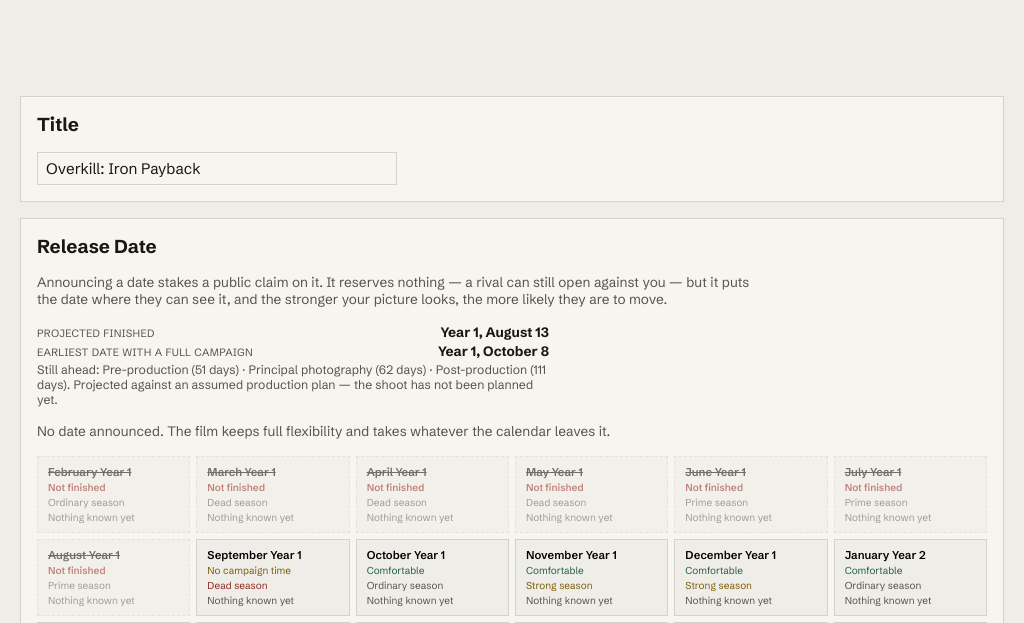
ProjectOverview - the release-date card surfaces what should decide the date › warns in words once a date is claimed, naming the worst problem with it
This screenshot has width=1024, height=623.
Claim the first month offered - the one the film has no chance of making.
Click the button with class "release-month-cell" that starts with "February Year 1" at [114, 494], box [37,456,190,533]
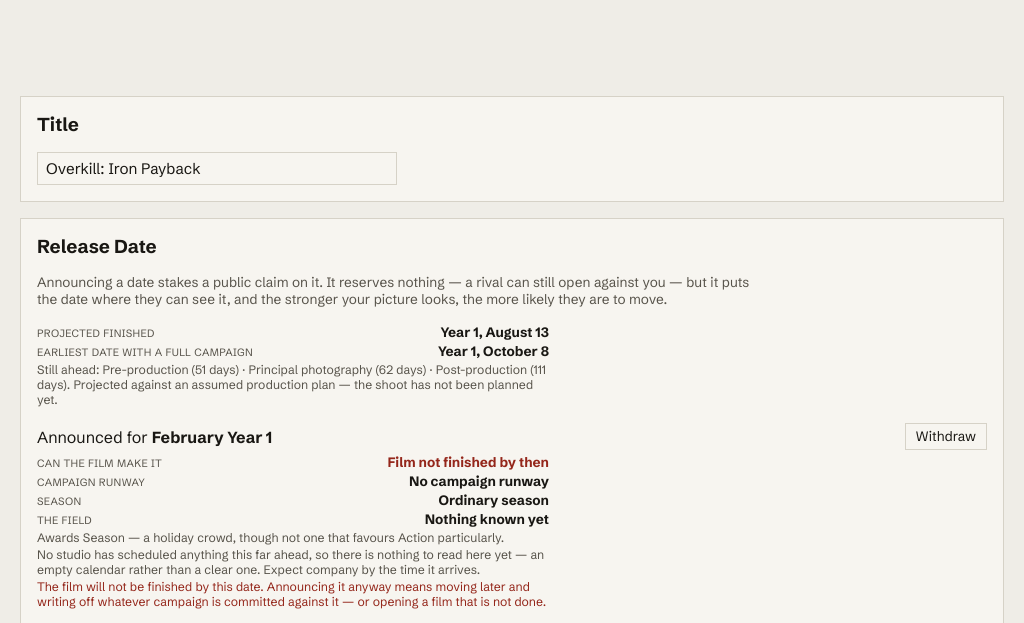
Expected: the text "Can the film make it" is shown, [37,457,162,470]
Expected: the text "Campaign runway" is shown, [37,476,145,489]
Expected: the text "Season" is shown, [37,495,82,508]
